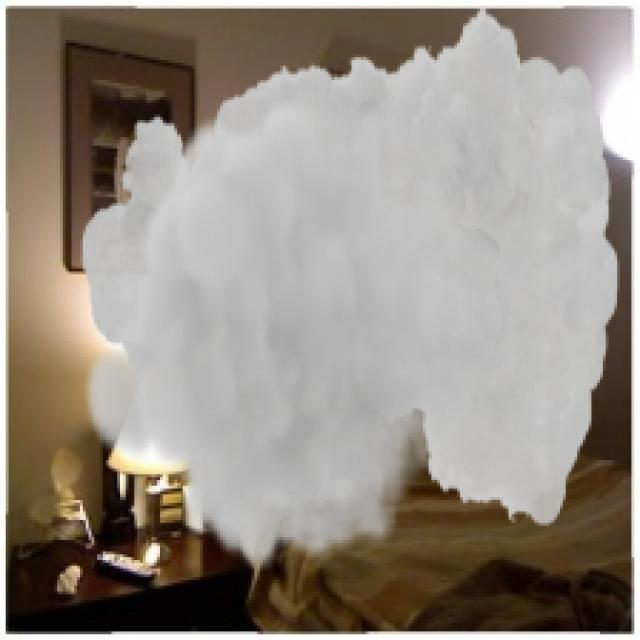Smoke: (80, 2, 620, 572)
